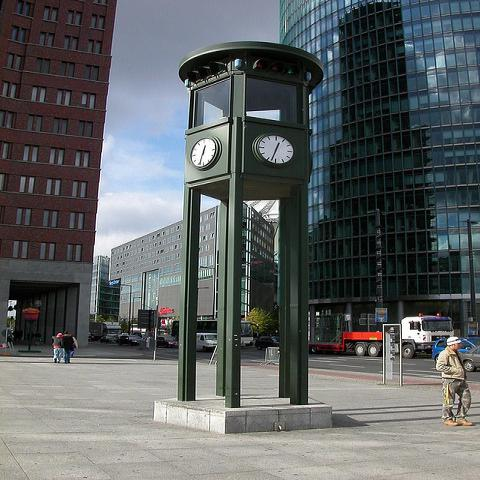bus: (171, 319, 253, 347)
car: (432, 337, 479, 361), (458, 345, 479, 372), (195, 333, 218, 351), (253, 337, 280, 350), (115, 335, 146, 346), (157, 336, 179, 348), (100, 333, 118, 343)
truck: (310, 313, 456, 359), (89, 322, 122, 341)
